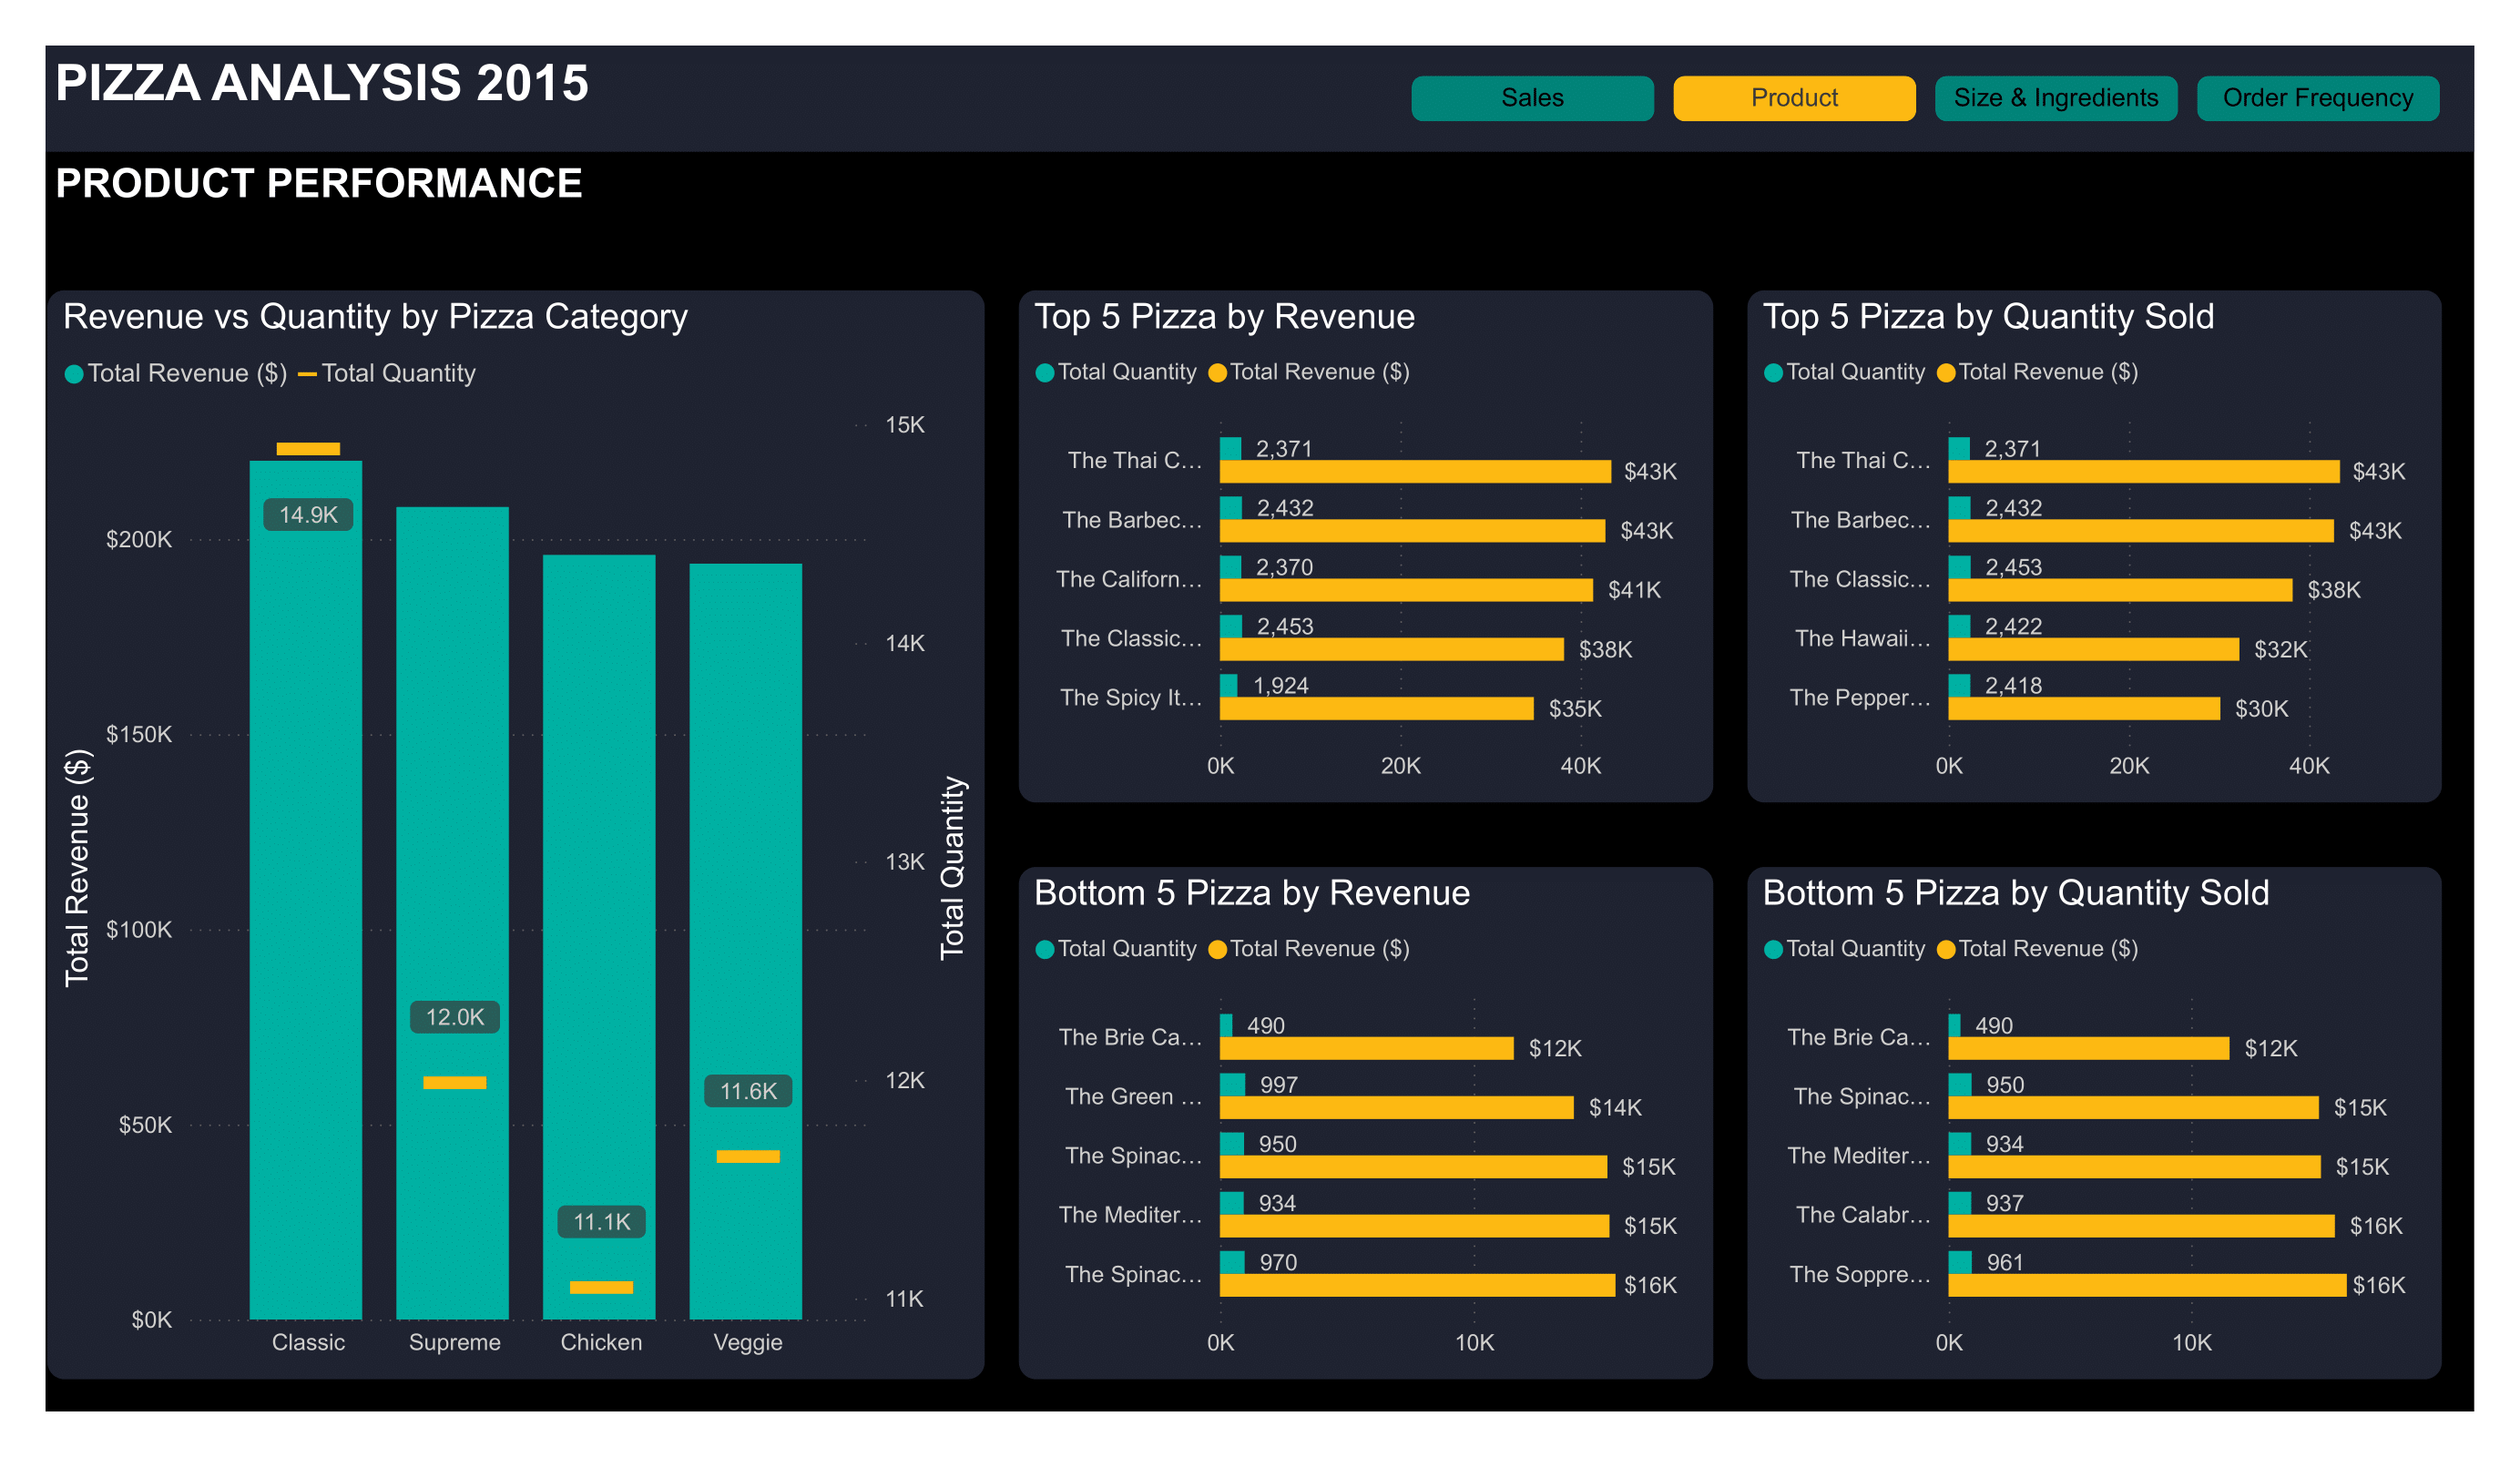

The page's visual inventory and layout, read from the dashboard file:
{"tool":"powerbi","page":{"name":"Product","canvas":[1280,720],"ordinal":1},"visuals":[{"type":"textbox","box":[0,56,304,40],"z":0},{"type":"lineStackedColumnComboChart","title":"Revenue vs Quantity by Pizza Category","fields":{"Category":["data_pizza.category"],"Y":["_Measures.Total Revenue"],"Y2":["_Measures.Total Quantity"]},"box":[0,128,496,576],"z":1000},{"type":"clusteredBarChart","title":"Top 5 Pizza by Quantity Sold","fields":{"Category":["data_pizza.name"],"Y":["_Measures.Total Quantity","_Measures.Total Revenue"]},"box":[896,128,368,272],"z":2000},{"type":"clusteredBarChart","title":"Bottom 5 Pizza by Revenue","fields":{"Category":["data_pizza.name"],"Y":["_Measures.Total Quantity","_Measures.Total Revenue"]},"box":[512,432,368,272],"z":3000},{"type":"clusteredBarChart","title":"Top 5 Pizza by Revenue","fields":{"Category":["data_pizza.name"],"Y":["_Measures.Total Quantity","_Measures.Total Revenue"]},"box":[512,128,368,272],"z":4000},{"type":"textbox","box":[0,0,1280,56],"z":4500},{"type":"clusteredBarChart","title":"Bottom 5 Pizza by Quantity Sold","fields":{"Category":["data_pizza.name"],"Y":["_Measures.Total Quantity","_Measures.Total Revenue"]},"box":[896,432,368,272],"z":5000},{"type":"pageNavigator","box":[720,16,544,24],"z":6001}]}

Visuals, with their boxes on the page's 1280x720 design canvas (x1, y1, x2, y2). These are canvas units, not pixel positions in the 2520x1457 screenshot, which may show the page scaled, cropped or inside an application window:
textbox: x1=0 y1=56 x2=304 y2=96
"Revenue vs Quantity by Pizza Category" lineStackedColumnComboChart: x1=0 y1=128 x2=496 y2=704
"Top 5 Pizza by Quantity Sold" clusteredBarChart: x1=896 y1=128 x2=1264 y2=400
"Bottom 5 Pizza by Revenue" clusteredBarChart: x1=512 y1=432 x2=880 y2=704
"Top 5 Pizza by Revenue" clusteredBarChart: x1=512 y1=128 x2=880 y2=400
textbox: x1=0 y1=0 x2=1280 y2=56
"Bottom 5 Pizza by Quantity Sold" clusteredBarChart: x1=896 y1=432 x2=1264 y2=704
pageNavigator: x1=720 y1=16 x2=1264 y2=40
